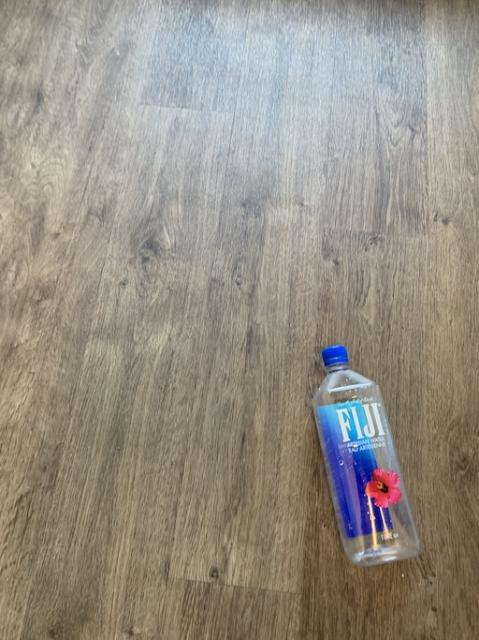plastic: (312, 345, 419, 564)
